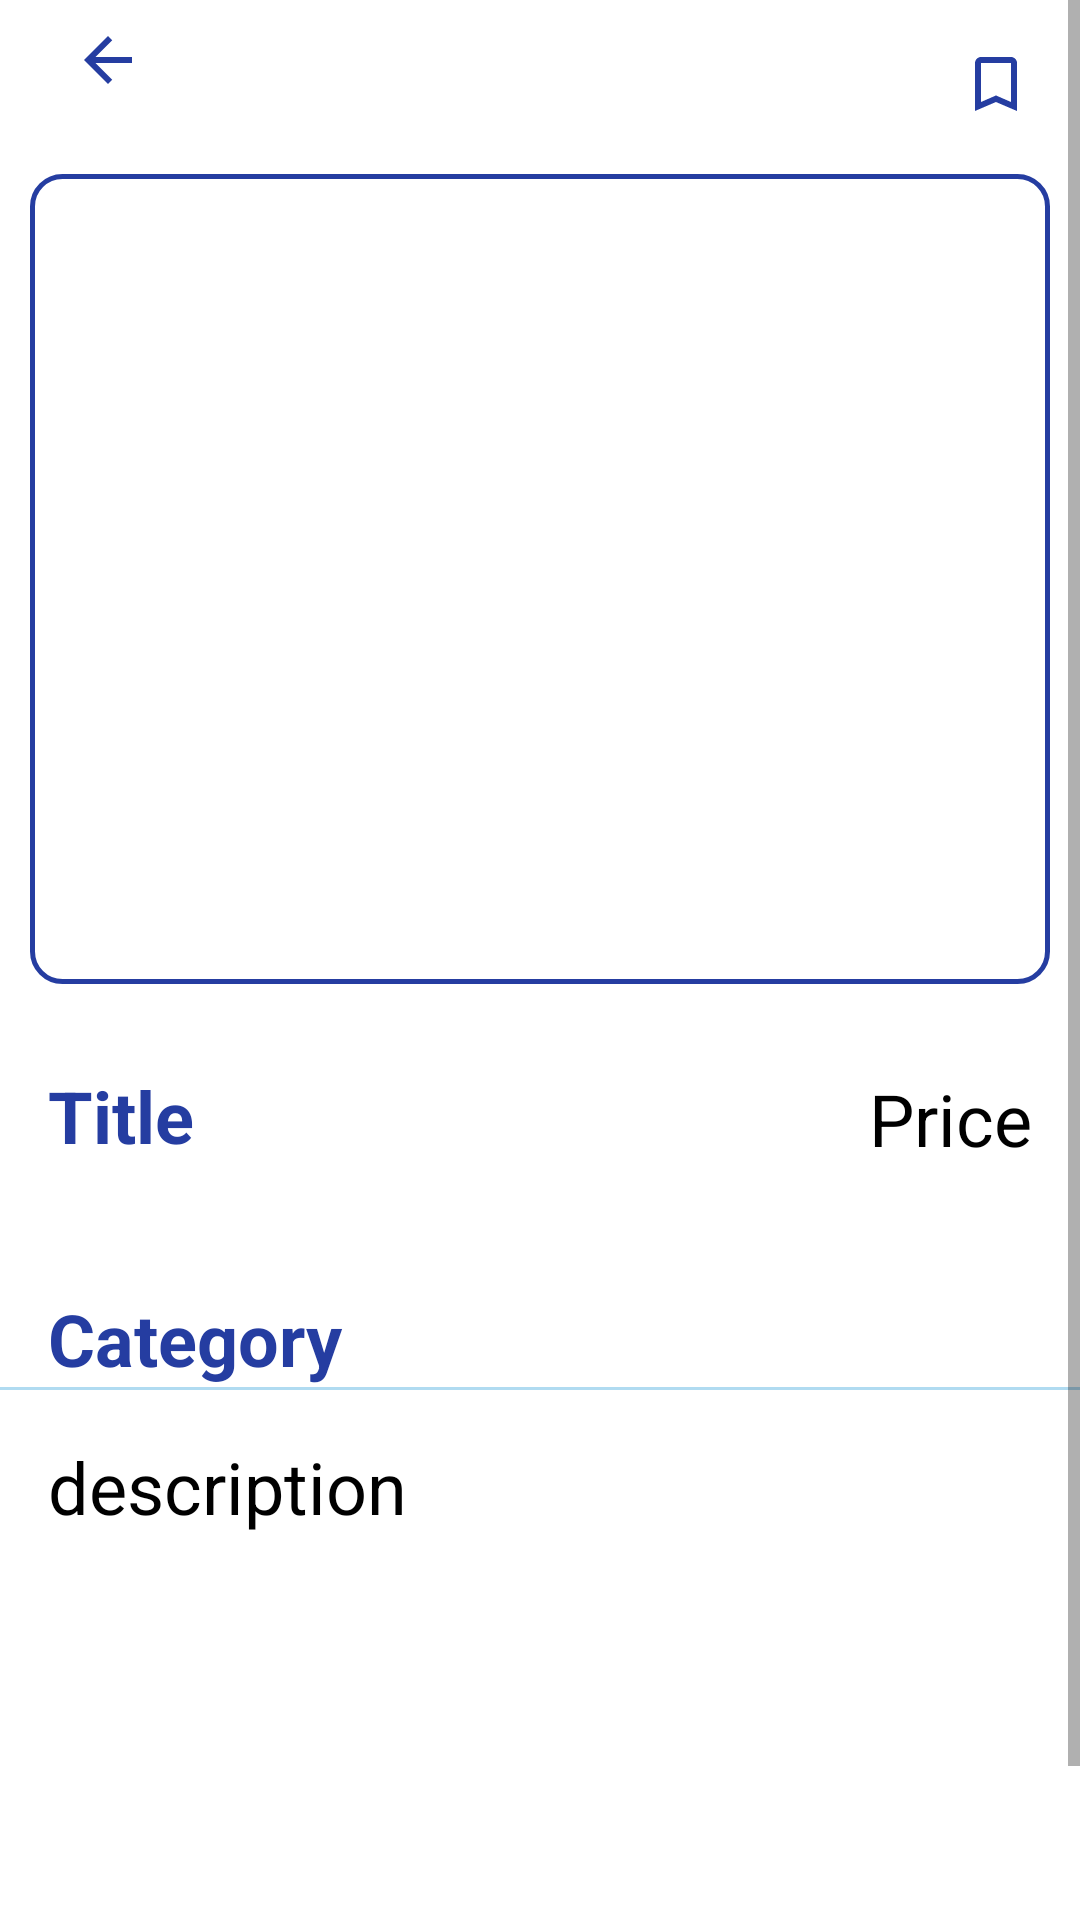

Icon click points for this 1080x1920 phone screenshot, format [x,y]:
arrow back: [108,60]
bookmark border: [996,84]
